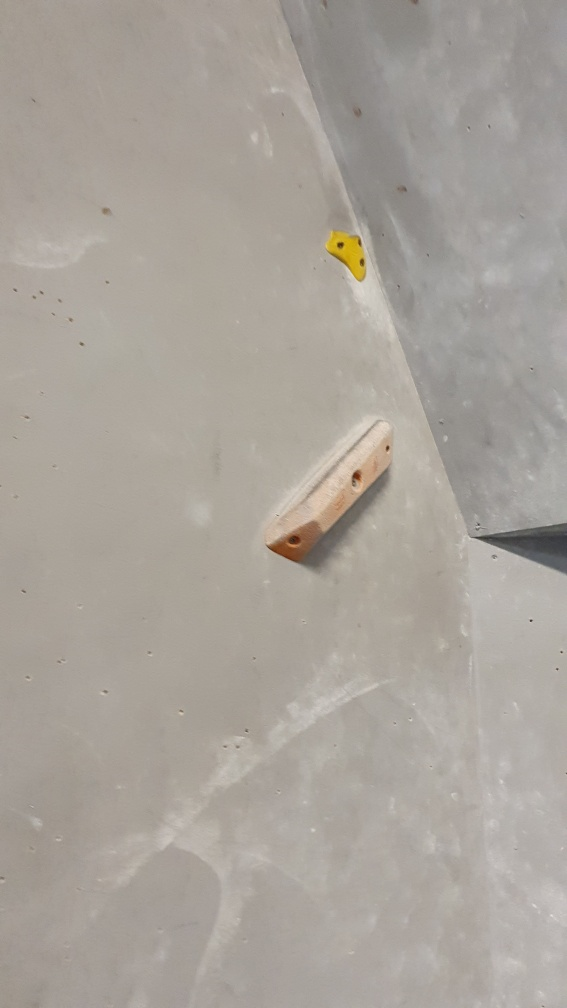Pinch: (263, 414, 398, 568)
